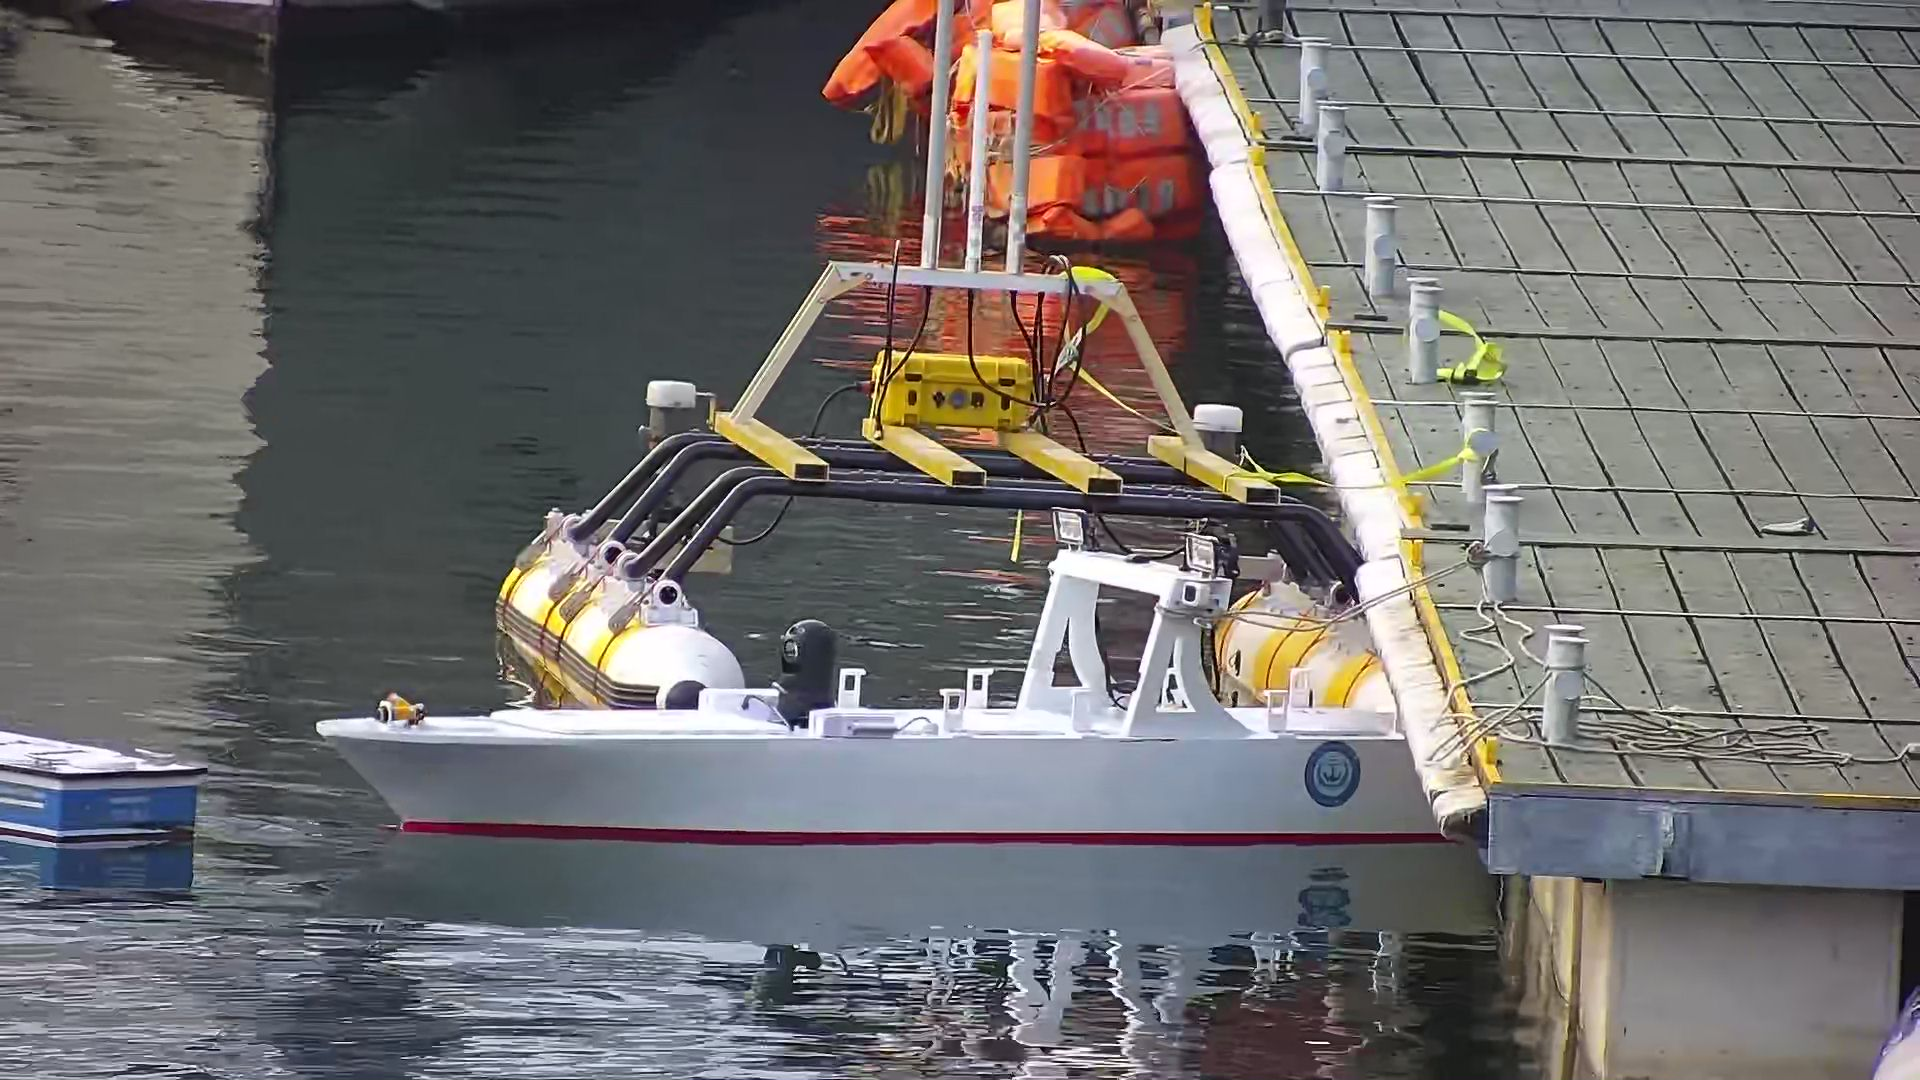boat: (487, 233, 1396, 705), (315, 513, 1472, 843)
harbor: (1139, 1, 1920, 911)
